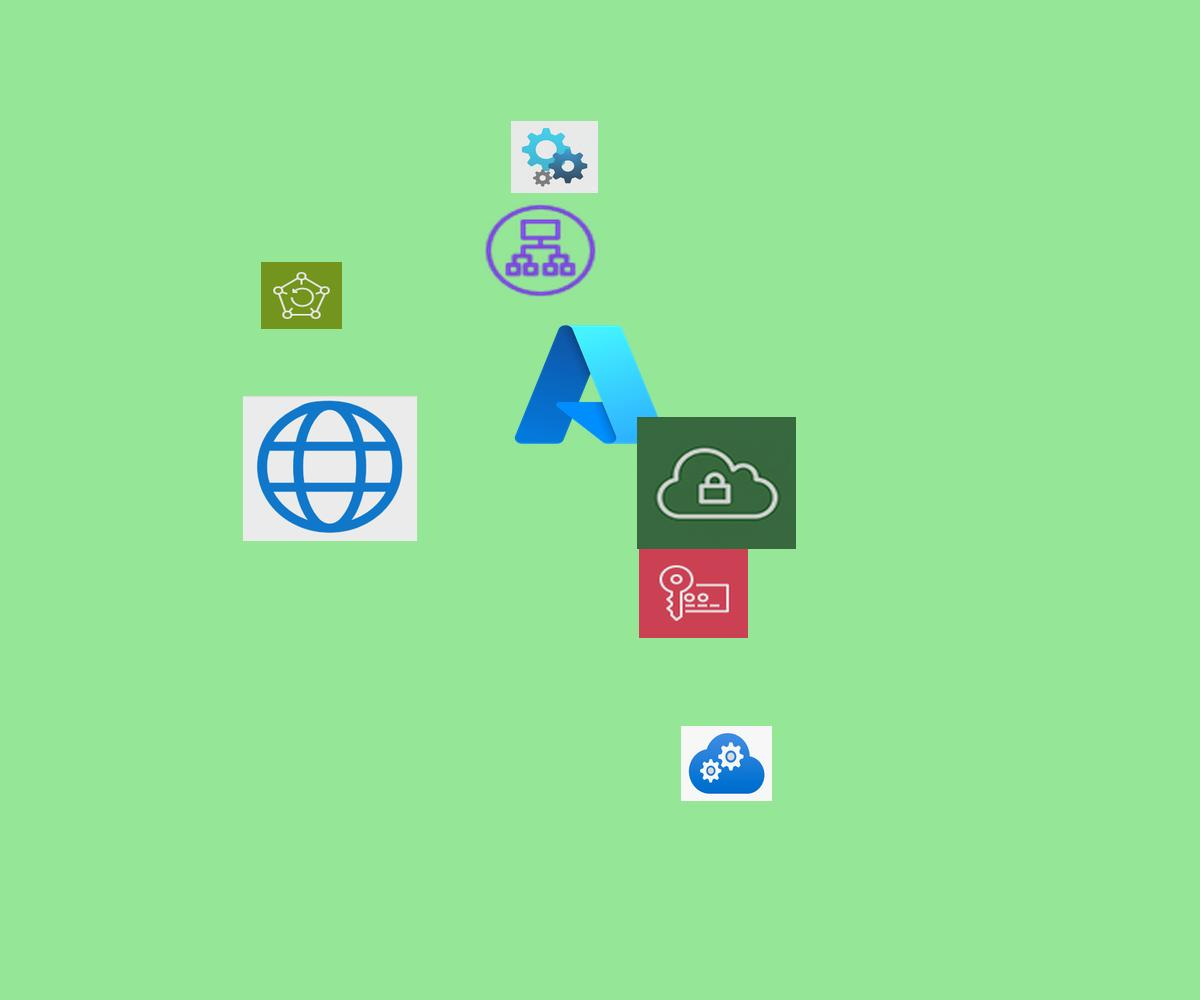AWS-Backup: (261, 262, 342, 329)
AWS-Key-Management-Service: (639, 547, 748, 638)
AWS-Private_vpc: (637, 417, 796, 549)
AWS-Res_Elastic-Load-Balancing_Application-Load-Balancer: (481, 201, 600, 300)
Azure_api: (511, 121, 598, 193)
Azure_cloud_services: (681, 726, 772, 801)
Azure_http: (243, 396, 417, 541)
Azure_services: (508, 316, 673, 453)
